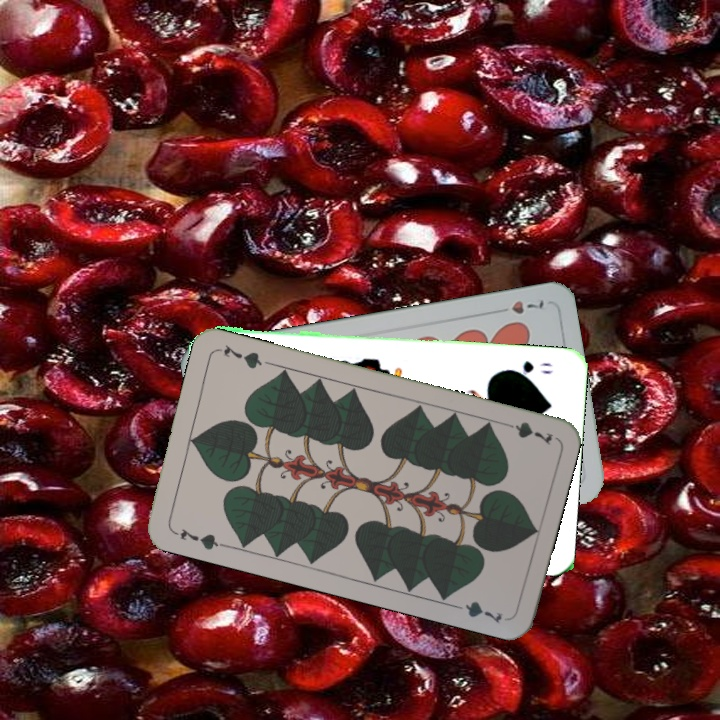G7: (497, 417, 556, 447), (169, 524, 228, 553)
GO: (502, 357, 555, 379)
H7: (491, 295, 546, 317)
